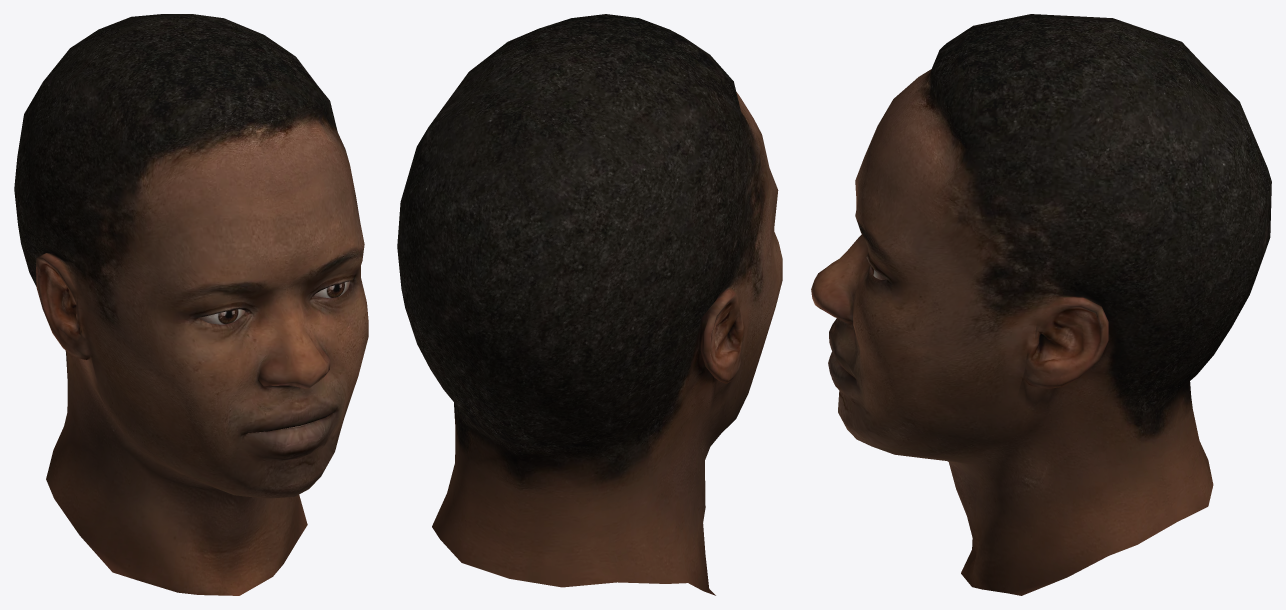
File: daniel.glb
3 views of the same model, side by side, from view 1: azimuth 30°, elevation 25°; view 2: azimuth 150°, elevation 25°; view 3: azimuth 270°, elevation 25° (orthographic). The views are drawn at different scales.
Visible parts, largest first — view 1: skin, eyes; view 2: skin; view 3: skin.
Part boxes in pixels (x1=…): skin: x1=14, y1=14, x2=368, y2=595; eyes: x1=199, y1=281, x2=349, y2=324; skin: x1=397, y1=14, x2=782, y2=595; skin: x1=811, y1=14, x2=1271, y2=595.
Size of the model in its own units: 0.1664 by 0.3018 by 0.232.
Materials: 2 (2 with a texture image).
